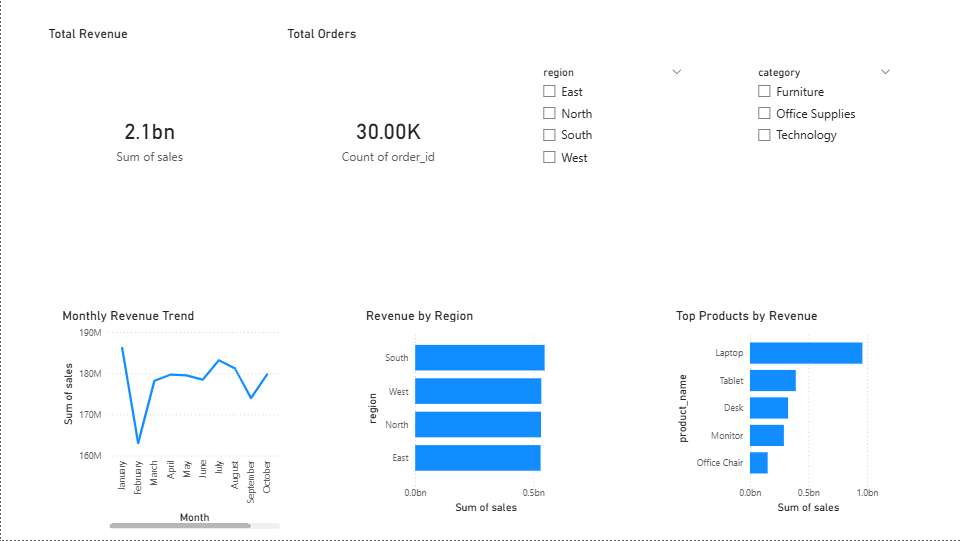

The dashboard page shown, as its layout file describes it:
{"tool":"powerbi","page":{"name":"Business Overview","canvas":[1280,720],"ordinal":0},"visuals":[{"type":"card","title":"Total Revenue","fields":{"Values":["Sum(public orders_large.sales)"]},"box":[57.6,34.3,279.9,279.9],"z":0},{"type":"card","title":"Total Orders","fields":{"Values":["Count(public orders_large.order_id)"]},"box":[377.4,34.3,279.9,279.9],"z":1000},{"type":"lineChart","title":"Monthly Revenue Trend","fields":{"Category":["public orders_large.order_date.Variation.Date Hierarchy.Month"],"Y":["Sum(public orders_large.sales)"]},"box":[76.8,410.3,300.5,300.5],"z":2000},{"type":"clusteredBarChart","title":"Revenue by Region","fields":{"Y":["Sum(public orders_large.sales)"],"Category":["public orders_large.region"]},"box":[481.6,410.3,279.9,279.9],"z":3000},{"type":"clusteredBarChart","title":"Top Products by Revenue","fields":{"Category":["public orders_large.product_name"],"Y":["Sum(public orders_large.sales)"]},"box":[894.7,410.3,279.9,279.9],"z":4000},{"type":"slicer","fields":{"Values":["public orders_large.region"]},"box":[709.4,83.7,209.9,179.8],"z":5000},{"type":"slicer","fields":{"Values":["public orders_large.category"]},"box":[996.2,83.7,201.7,179.8],"z":6000}]}

Visuals, with their boxes in screenshot pixels (x1, y1, x2, y2), scaled from the page's 1280x720 canvas onto the 961x541 screenshot:
"Total Revenue" card: l=43, t=26, r=253, b=236
"Total Orders" card: l=283, t=26, r=493, b=236
"Monthly Revenue Trend" lineChart: l=58, t=308, r=283, b=534
"Revenue by Region" clusteredBarChart: l=362, t=308, r=572, b=519
"Top Products by Revenue" clusteredBarChart: l=672, t=308, r=882, b=519
slicer - public orders_large.region: l=533, t=63, r=690, b=198
slicer - public orders_large.category: l=748, t=63, r=899, b=198
